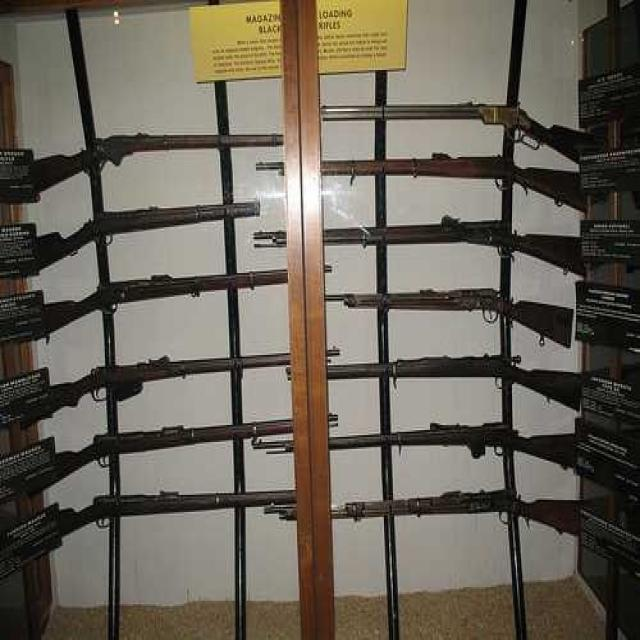heavyweapon: (1, 81, 293, 225), (1, 477, 316, 592), (5, 322, 304, 440), (1, 387, 312, 496), (315, 75, 614, 169), (6, 254, 293, 348), (321, 203, 583, 280), (329, 351, 619, 414), (326, 417, 594, 479), (318, 494, 604, 542)
